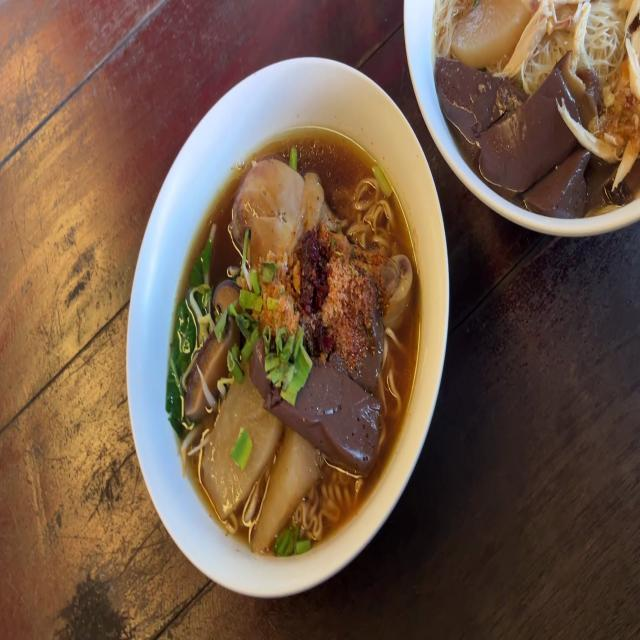noodle: (446, 58, 600, 202), (304, 328, 388, 449)
